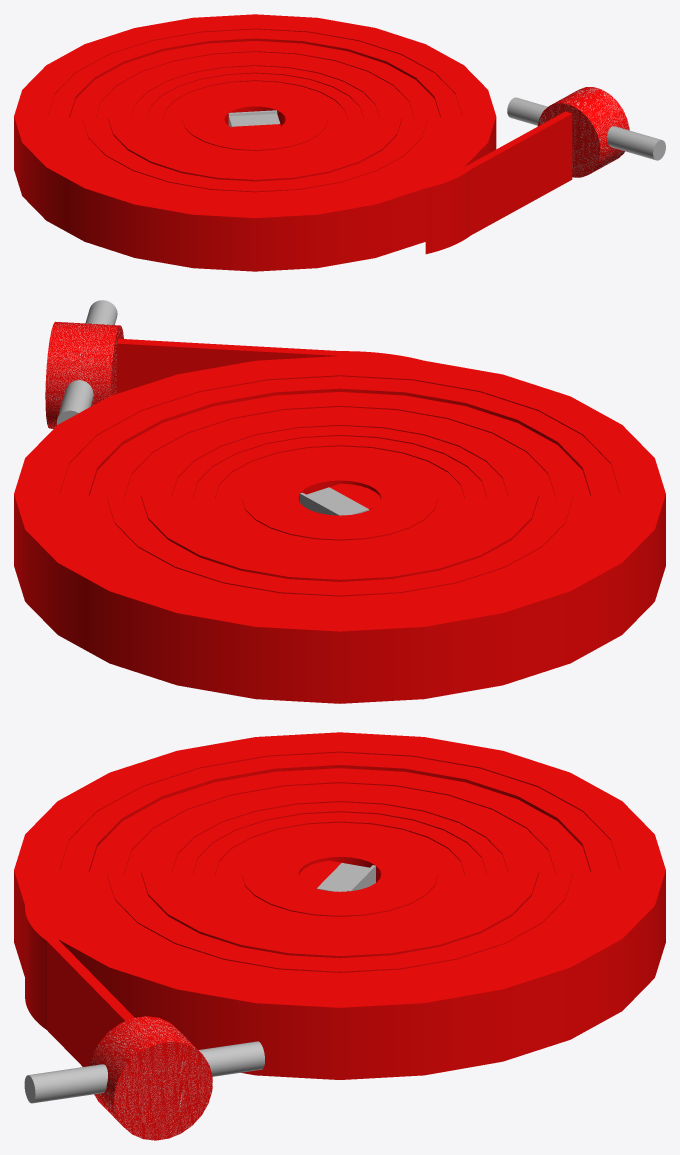
The model's file is vrc_firehose.dae.
The picture shows the model from 3 angles, top to bottom: view 1: azimuth 30°, elevation 25°; view 2: azimuth 150°, elevation 25°; view 3: azimuth 270°, elevation 25°; orthographic projection. The views are drawn at different scales.
Visible parts, largest first — view 1: SketchUp, SketchUp_005, SketchUp_001, SketchUp_010, SketchUp_002, SketchUp_006, SketchUp_004, SketchUp_009, SketchUp_003, SketchUp_008, SketchUp_007, SketchUp_011 (+2 smaller); view 2: SketchUp, SketchUp_005, SketchUp_001, SketchUp_010, SketchUp_002, SketchUp_006, SketchUp_004, SketchUp_009, SketchUp_003, SketchUp_008, SketchUp_007, SketchUp_011 (+3 smaller); view 3: SketchUp, SketchUp_005, SketchUp_001, SketchUp_010, SketchUp_002, SketchUp_006, SketchUp_011, SketchUp_004, SketchUp_009, SketchUp_003, SketchUp_008, SketchUp_007 (+3 smaller).
Part boxes in pixels (x1=…): SketchUp: x1=14, y1=14, x2=572, y2=271; SketchUp_005: x1=47, y1=28, x2=462, y2=203; SketchUp_001: x1=32, y1=22, x2=478, y2=210; SketchUp_010: x1=108, y1=55, x2=401, y2=181; SketchUp_002: x1=69, y1=38, x2=440, y2=195; SketchUp_006: x1=82, y1=45, x2=427, y2=192; SketchUp_004: x1=182, y1=88, x2=327, y2=150; SketchUp_009: x1=130, y1=65, x2=379, y2=170; SketchUp_003: x1=95, y1=51, x2=414, y2=185; SketchUp_008: x1=146, y1=72, x2=363, y2=164; SketchUp_007: x1=162, y1=80, x2=347, y2=158; SketchUp_011: x1=537, y1=87, x2=629, y2=177; SketchUp: x1=14, y1=338, x2=665, y2=703; SketchUp_005: x1=59, y1=375, x2=620, y2=612; SketchUp_001: x1=38, y1=366, x2=641, y2=621; SketchUp_010: x1=141, y1=412, x2=538, y2=581; SketchUp_002: x1=89, y1=388, x2=590, y2=600; SketchUp_006: x1=106, y1=398, x2=573, y2=596; SketchUp_004: x1=241, y1=456, x2=438, y2=540; SketchUp_009: x1=171, y1=425, x2=508, y2=566; SketchUp_003: x1=124, y1=406, x2=555, y2=587; SketchUp_008: x1=193, y1=435, x2=486, y2=558; SketchUp_007: x1=215, y1=445, x2=464, y2=550; SketchUp_011: x1=45, y1=321, x2=123, y2=428; SketchUp: x1=14, y1=732, x2=665, y2=1079; SketchUp_005: x1=59, y1=751, x2=620, y2=988; SketchUp_001: x1=38, y1=742, x2=641, y2=997; SketchUp_010: x1=141, y1=788, x2=538, y2=958; SketchUp_002: x1=89, y1=765, x2=590, y2=977; SketchUp_006: x1=106, y1=774, x2=573, y2=972; SketchUp_011: x1=89, y1=1016, x2=212, y2=1140; SketchUp_004: x1=241, y1=833, x2=438, y2=916; SketchUp_009: x1=171, y1=801, x2=508, y2=943; SketchUp_003: x1=124, y1=782, x2=555, y2=964; SketchUp_008: x1=193, y1=811, x2=486, y2=935; SketchUp_007: x1=215, y1=821, x2=464, y2=926.
Bounding box in the file's own units: 42.18 × 34.75 × 5.88.
